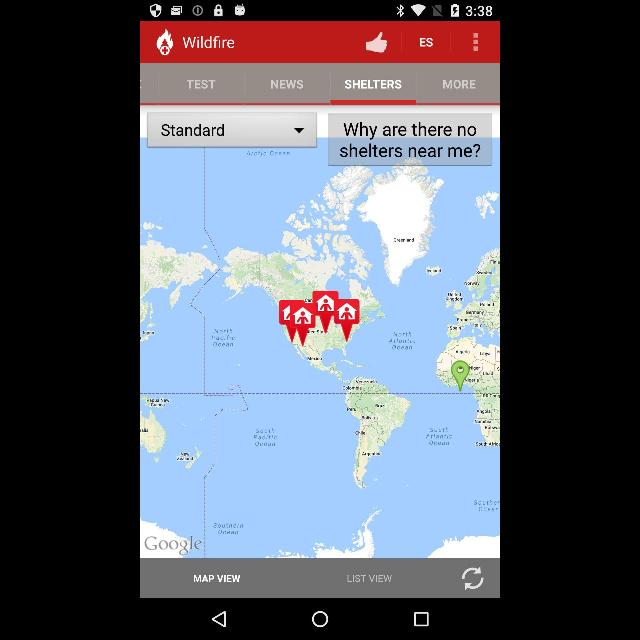icon: (462, 566, 484, 590), (156, 29, 174, 55), (367, 32, 388, 54), (312, 610, 328, 628), (212, 610, 226, 628), (414, 612, 428, 626), (474, 34, 478, 50), (294, 128, 304, 134)
map: (140, 166, 500, 560)
multitab: (141, 62, 499, 102), (140, 560, 498, 600)
panel: (140, 598, 500, 640)
text: (340, 123, 480, 157), (162, 124, 224, 136), (182, 36, 235, 48), (344, 80, 402, 88), (348, 574, 392, 582), (444, 81, 476, 89), (272, 80, 302, 88), (187, 80, 215, 88), (420, 38, 432, 46)
uppertaskbar: (140, 0, 500, 20)
